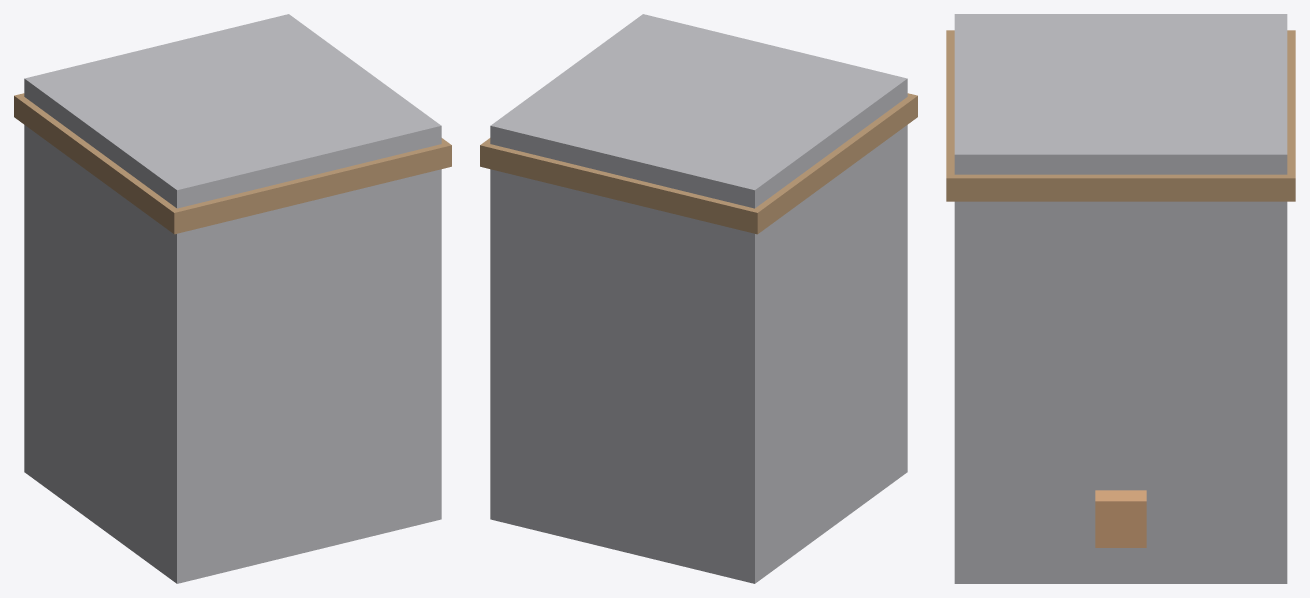
File: Prop_Water_AMF_Cistern_V7.glb
The picture shows the model from 3 angles, left to right: view 1: azimuth 30°, elevation 25°; view 2: azimuth 150°, elevation 25°; view 3: azimuth 270°, elevation 25°; orthographic projection. The views are drawn at different scales.
Parts seen in each view (by area): view 1: Prop_Water_AMF_Cistern_V7; view 2: Prop_Water_AMF_Cistern_V7; view 3: Prop_Water_AMF_Cistern_V7.
Part boxes in pixels (x1=…): Prop_Water_AMF_Cistern_V7: x1=14, y1=14, x2=451, y2=583; Prop_Water_AMF_Cistern_V7: x1=480, y1=14, x2=917, y2=583; Prop_Water_AMF_Cistern_V7: x1=946, y1=14, x2=1295, y2=583.
Size of the model in its own units: 1.42 by 1.84 by 1.35.
